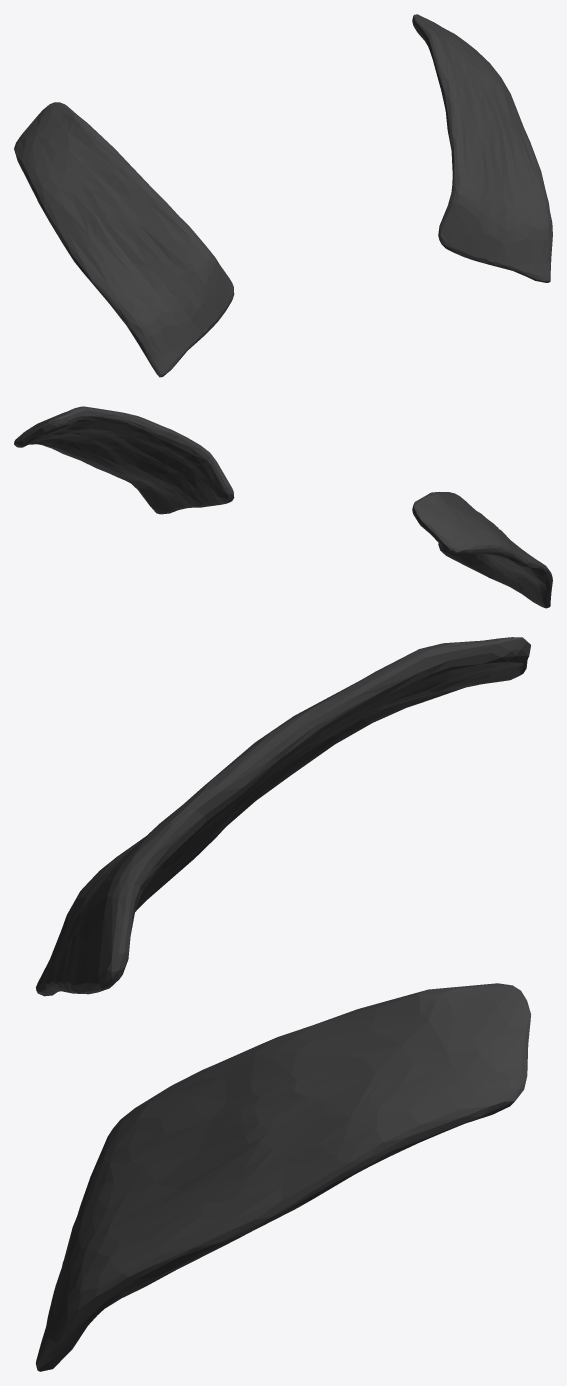
File: m_frontoscutularis_frontal.glb
3 renders of one model, top to bottom at view 1: azimuth 30°, elevation 25°; view 2: azimuth 150°, elevation 25°; view 3: azimuth 270°, elevation 25°, orthographic. The views are drawn at different scales.
Visible parts, largest first — view 1: m_frontoscutularis_frontal; view 2: m_frontoscutularis_frontal; view 3: m_frontoscutularis_frontal.
Boxes of the visible parts, x1,y1,x2,y2 form: m_frontoscutularis_frontal: (14, 14, 552, 377); m_frontoscutularis_frontal: (14, 406, 552, 608); m_frontoscutularis_frontal: (35, 637, 531, 1371).
Bounding box in the file's own units: 0.00207 × 0.000783 × 0.000949.
Materials: 1 (1 with a texture image).
